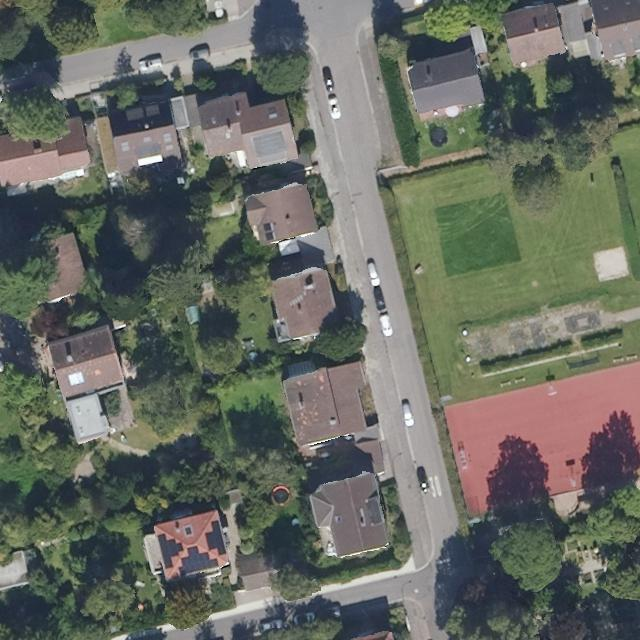PV: (177, 545, 220, 577), (156, 532, 185, 571), (204, 519, 228, 557)
